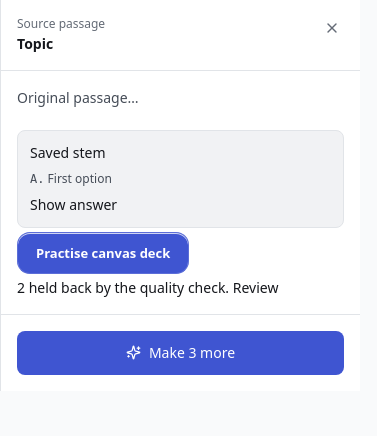
Test case: loads saved questions, hides and toggles answers, and links to practice and review
Expected: the text "Saved stem" is shown, [30,143,106,162]
Expected: the list item "First option" is shown, [48,170,112,187]
Click the button "Show answer".
click(74, 205)  # box [30,195,117,215]
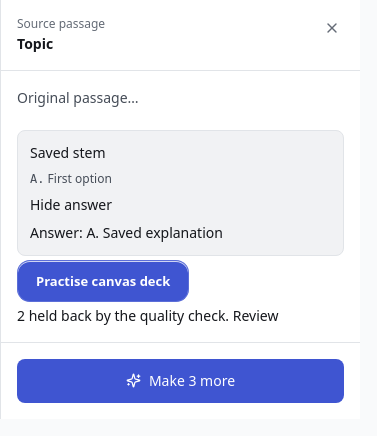
Now the text "Answer: A. Saved explanation" is shown, box [30,223,223,242]
Click the button "Hide answer".
click(71, 205)  # box [30,195,112,215]
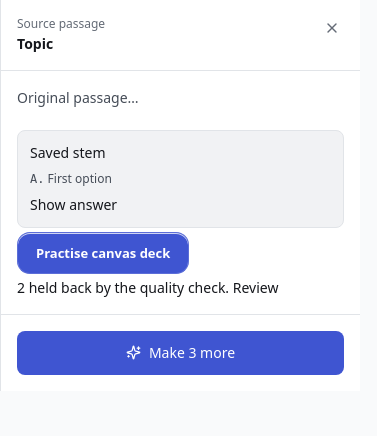
Expected: the text "2 held back by the quality check. Review" is shown, [17,278,278,297]
Now the text "Saved explanation" is gone
